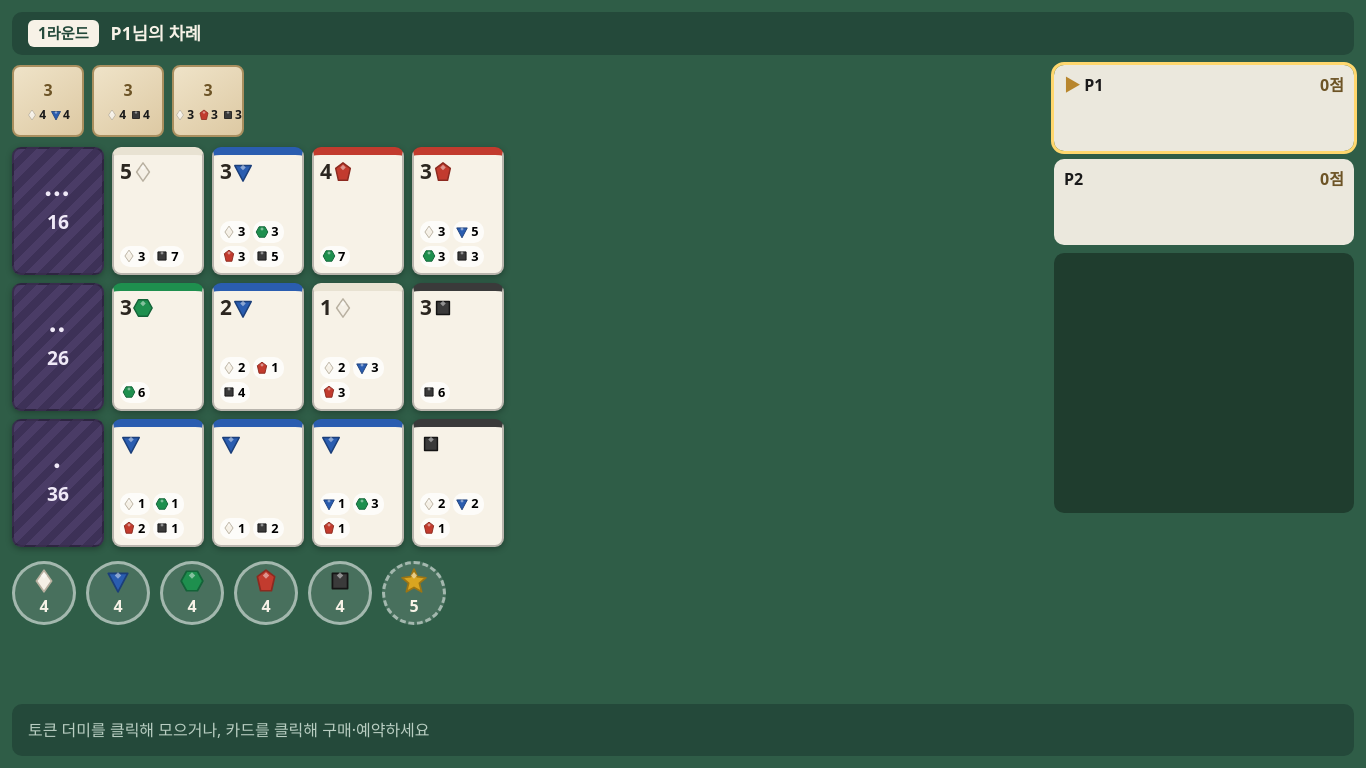
Test: UI 스모크 › 같은 색 2개 상태에서 다른 색 추가 시 사유가 표시된다
Click the button named "루비 토큰": click(266, 593) [234, 561, 298, 625]
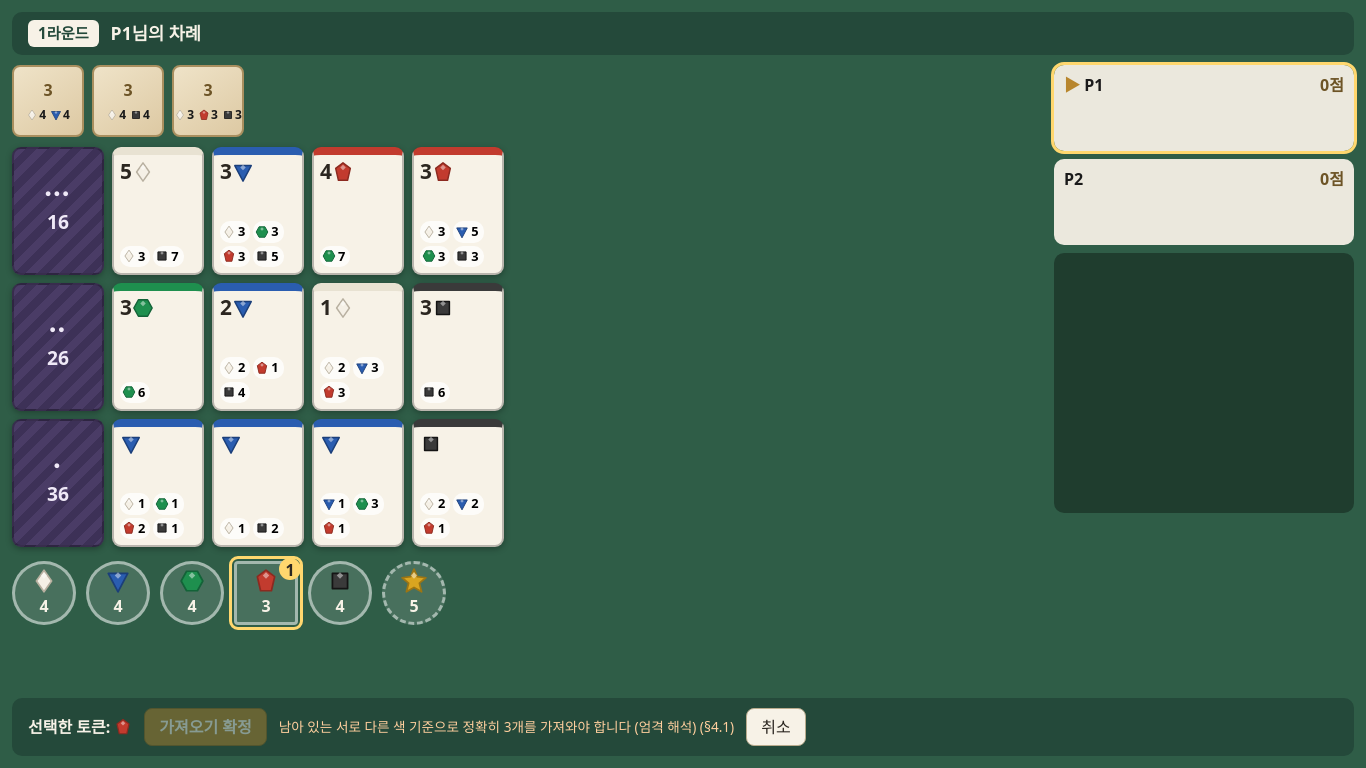
Click the button named "루비 토큰": click(266, 593) [234, 561, 298, 625]
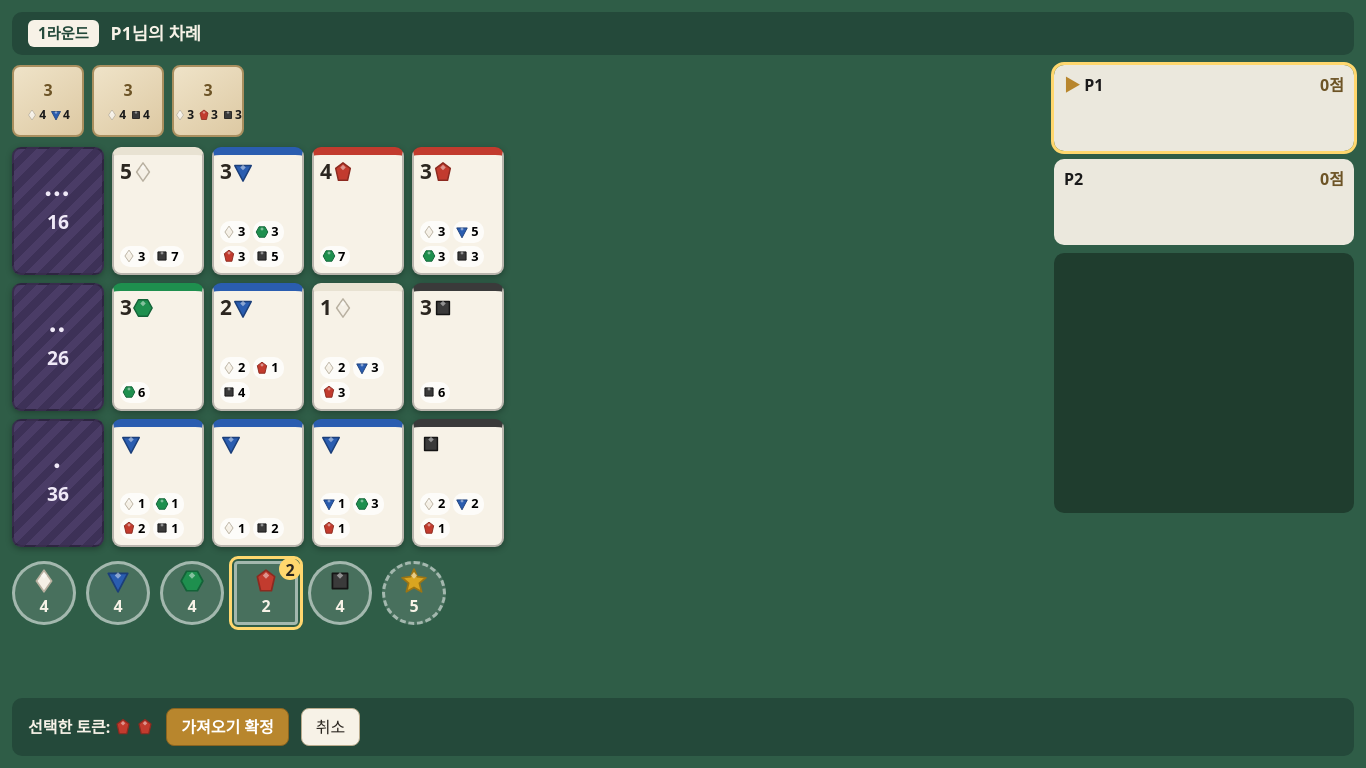
Click the button named "사파이어 토큰": click(118, 593) [86, 561, 150, 625]
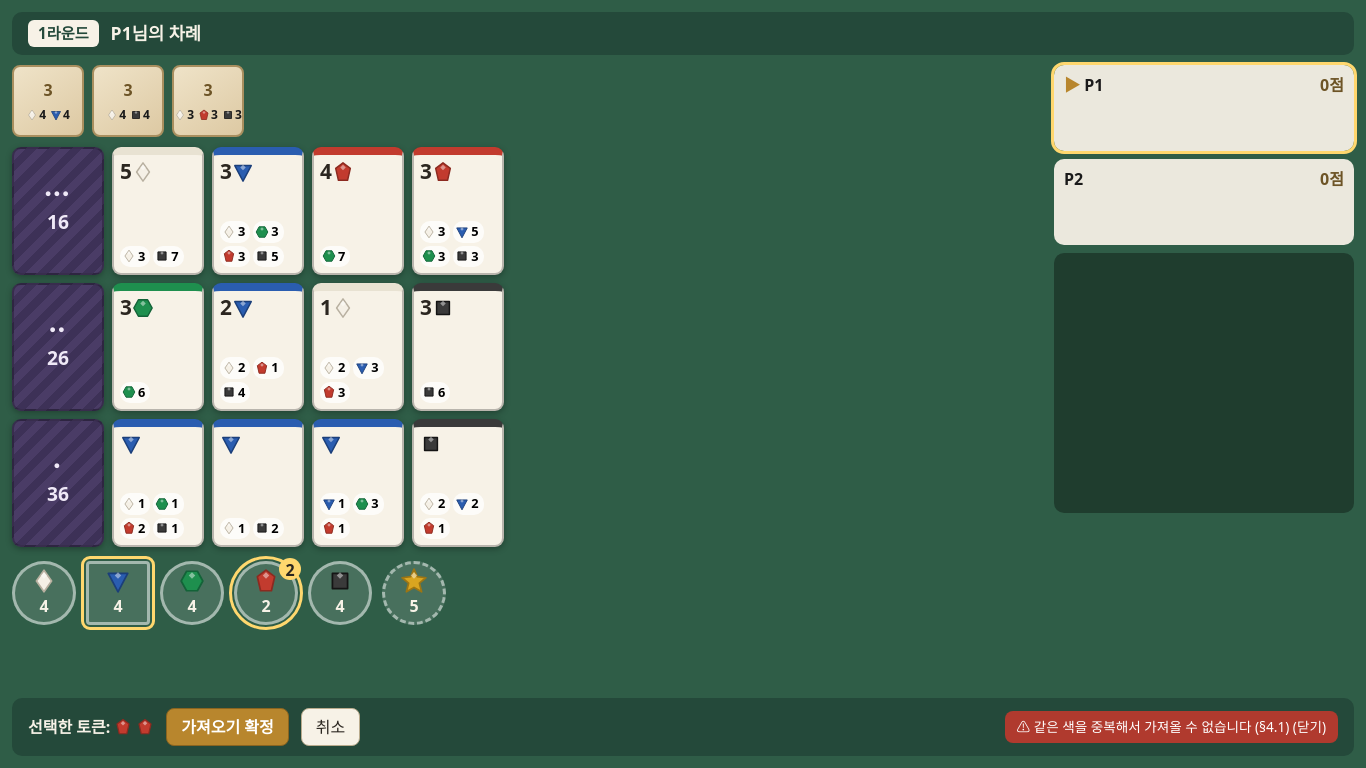
Now the button "⚠ 같은 색을 중복해서 가져올 수 없습니다 (§4.1) (닫기)" is shown, box [1004, 711, 1338, 743]
